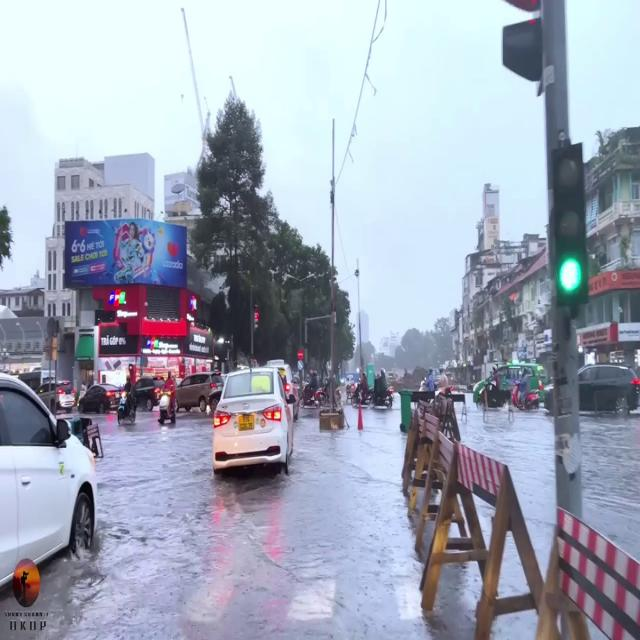bien_vang: (235, 411, 255, 431)
